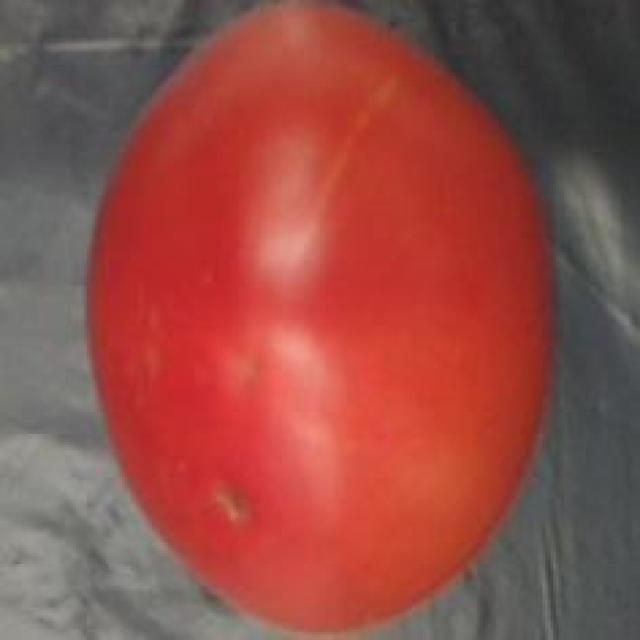ripe tomato: (70, 0, 567, 640)
